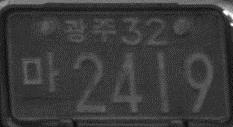1: (153, 50, 170, 117)
2: (72, 50, 110, 113), (145, 16, 169, 47)
3: (119, 16, 142, 46)
4: (110, 52, 145, 114)
9: (180, 51, 215, 113)
광주_O: (62, 16, 117, 44)
마: (20, 52, 61, 96)
